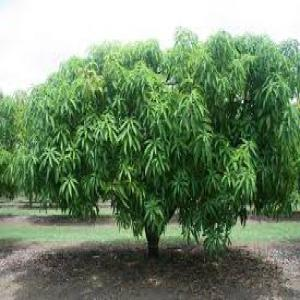Tree: (23, 25, 296, 254)
